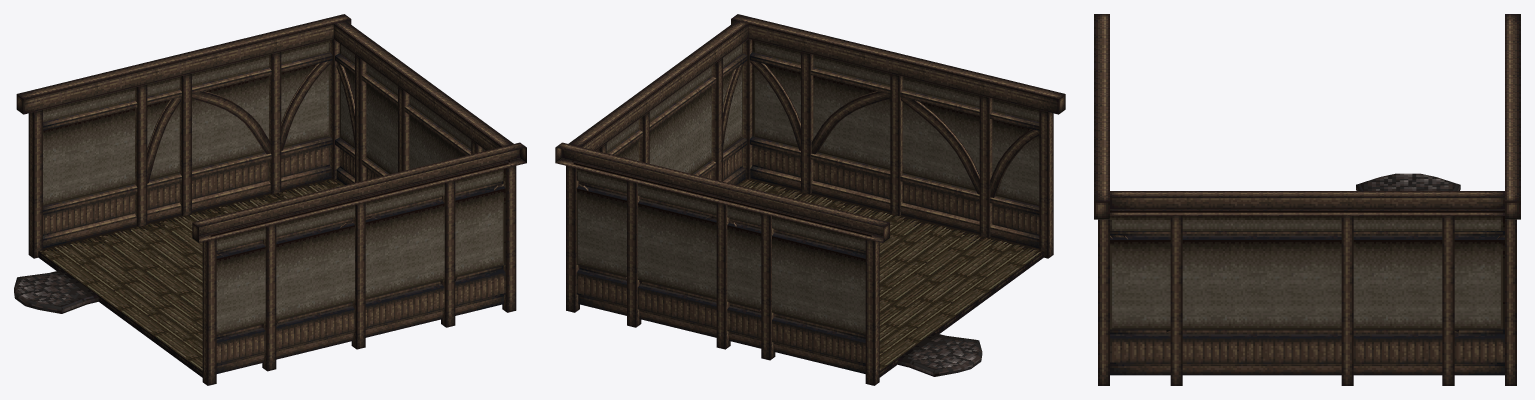
File: EnvBdgMD_Mount_A_Indoor_Inn.FBX
3 views of the same model, side by side, from view 1: azimuth 30°, elevation 25°; view 2: azimuth 150°, elevation 25°; view 3: azimuth 270°, elevation 25° (orthographic). The views are drawn at different scales.
Parts seen in each view (by area): view 1: EnvBdgMD_Mount_A_Indoor_Inn; view 2: EnvBdgMD_Mount_A_Indoor_Inn; view 3: EnvBdgMD_Mount_A_Indoor_Inn.
Part boxes in pixels (x1=…): EnvBdgMD_Mount_A_Indoor_Inn: x1=14, y1=14, x2=526, y2=385; EnvBdgMD_Mount_A_Indoor_Inn: x1=555, y1=14, x2=1065, y2=385; EnvBdgMD_Mount_A_Indoor_Inn: x1=1094, y1=14, x2=1520, y2=385.
Size of the model in its own units: 1250 by 520 by 1060.
Materials: 1 (1 with a texture image).
